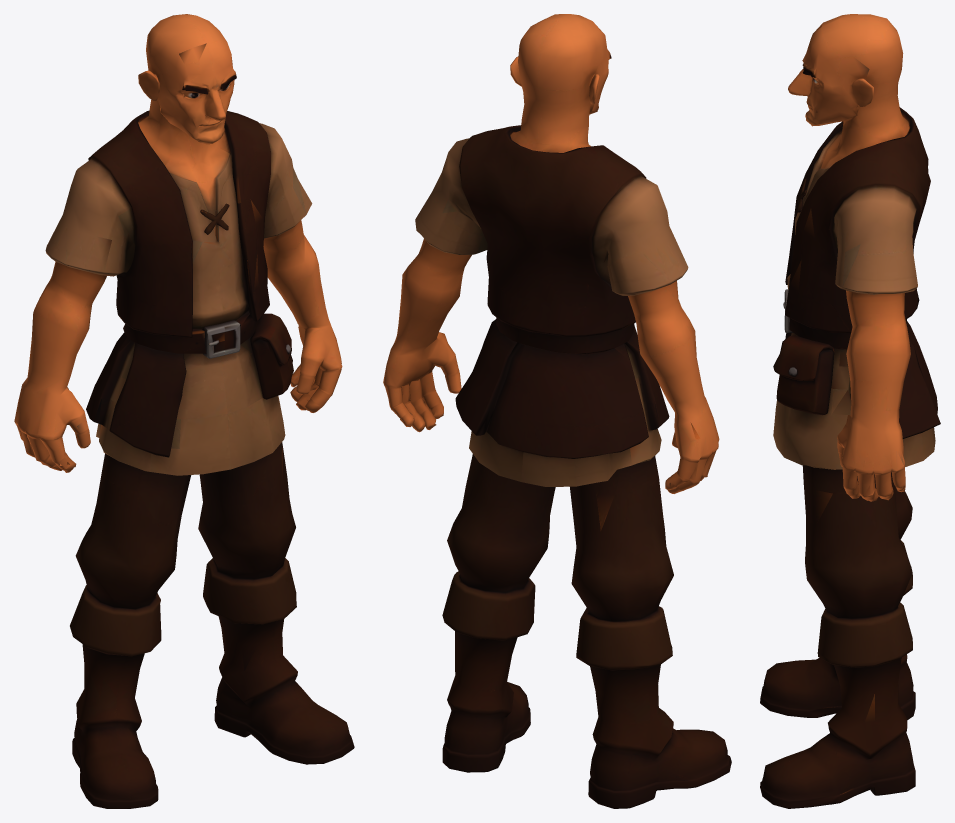
The model's file is koerper.glb.
The picture shows the model from 3 angles, left to right: view 1: azimuth 30°, elevation 25°; view 2: azimuth 150°, elevation 25°; view 3: azimuth 270°, elevation 25°; orthographic projection. The views are drawn at different scales.
Visible parts, largest first — view 1: koerper; view 2: koerper; view 3: koerper.
Part boxes in pixels (x1,y1,x2,y2): koerper: (14,14,354,808); koerper: (383,14,731,808); koerper: (760,14,940,808).
Bounding box in the file's own units: 0.8034 × 1.8 × 0.4031.
1 material, 1 textured.
